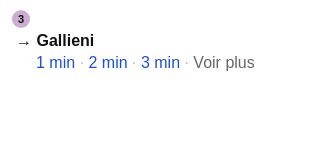
Test: StopPanel › révèle 3 passages de plus par clic sur "Voir plus", jusqu'à épuisement
This screenshot has width=332, height=160.
Click the button "Voir plus" at (224, 63), box left=189, top=52, right=259, bottom=74
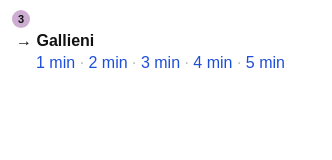
Expected: the text "4 min" is shown, left=193, top=54, right=232, bottom=71
Expected: the text "5 min" is shown, left=246, top=54, right=285, bottom=71
Expected: the button "Voir plus" is gone
